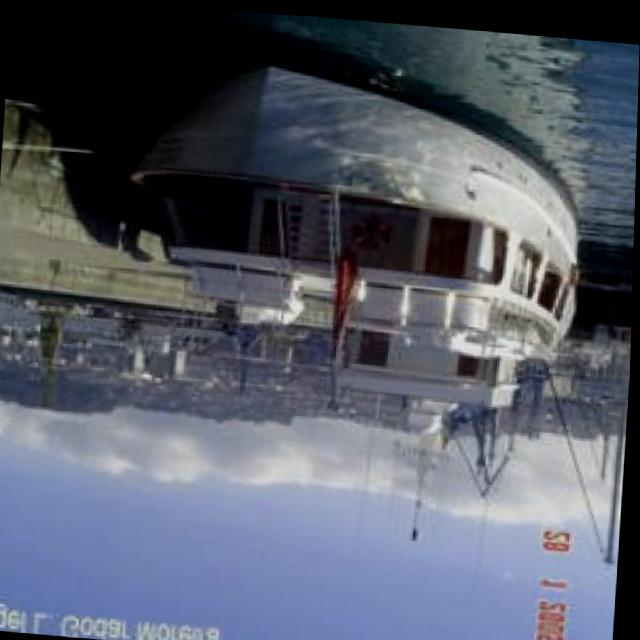ship2: (129, 49, 583, 539)
